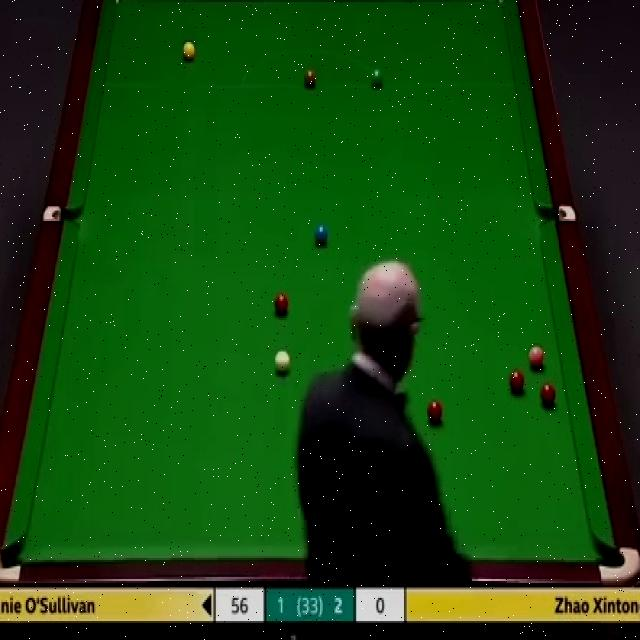blue-ball: (314, 220, 329, 248)
brown-ball: (303, 68, 318, 87)
green-ball: (369, 66, 385, 89)
pink-ball: (527, 344, 545, 370)
red-ball: (426, 399, 443, 424), (508, 368, 524, 394), (541, 382, 557, 407), (274, 292, 288, 314)
white-ball: (274, 350, 290, 376)
yellow-ball: (183, 42, 196, 62)
